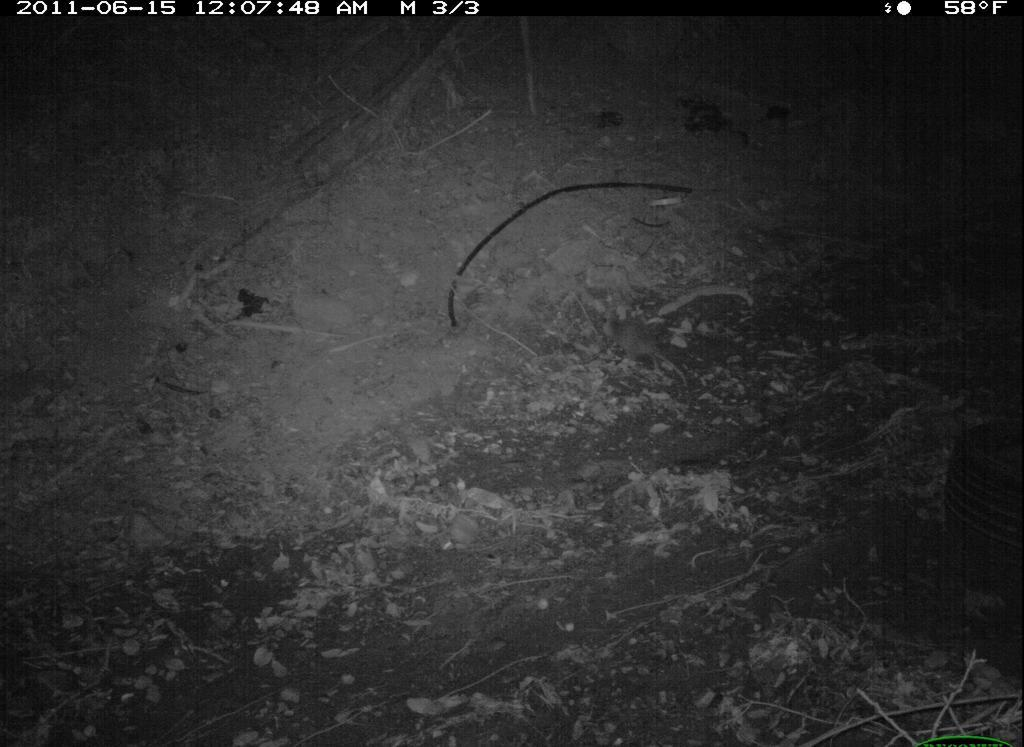opossum: (591, 303, 710, 411)
